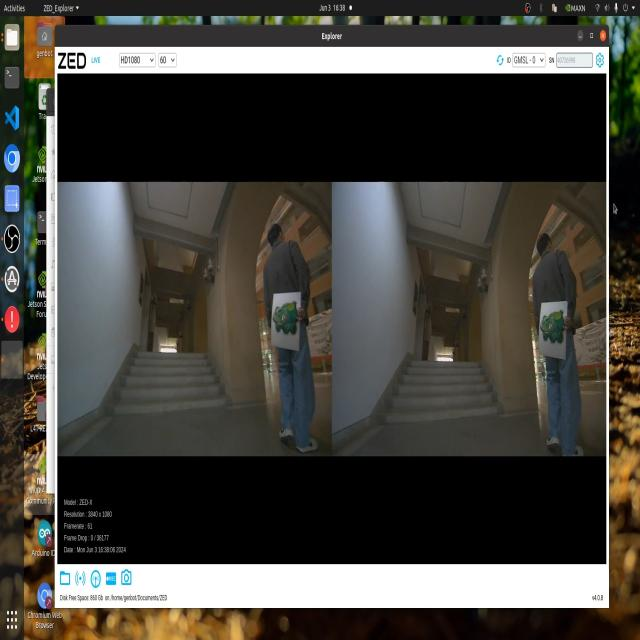green: (540, 300, 571, 360), (266, 288, 300, 338)
